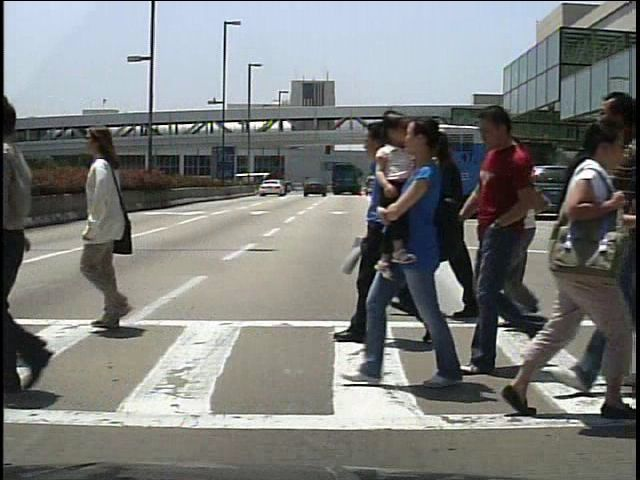person: (493, 111, 629, 427), (2, 79, 84, 401), (343, 119, 448, 347), (475, 102, 551, 378), (68, 122, 157, 346), (407, 130, 479, 322), (496, 140, 565, 334), (582, 168, 602, 218), (491, 164, 509, 216)
